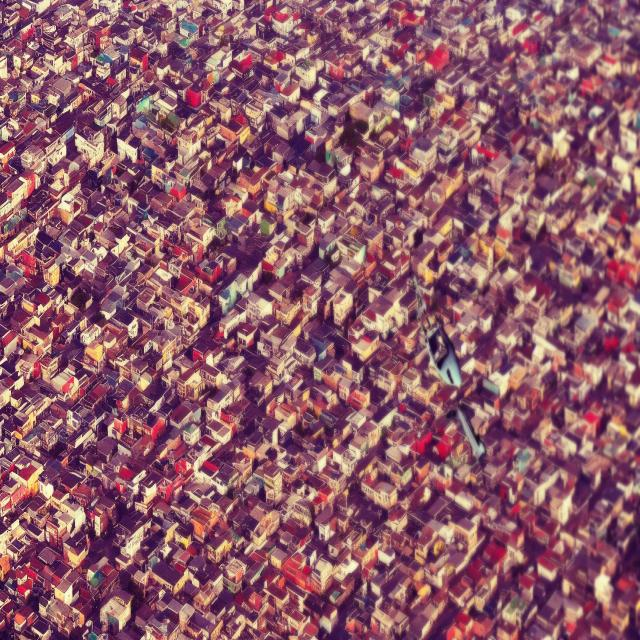airplane: (412, 273, 486, 462)
